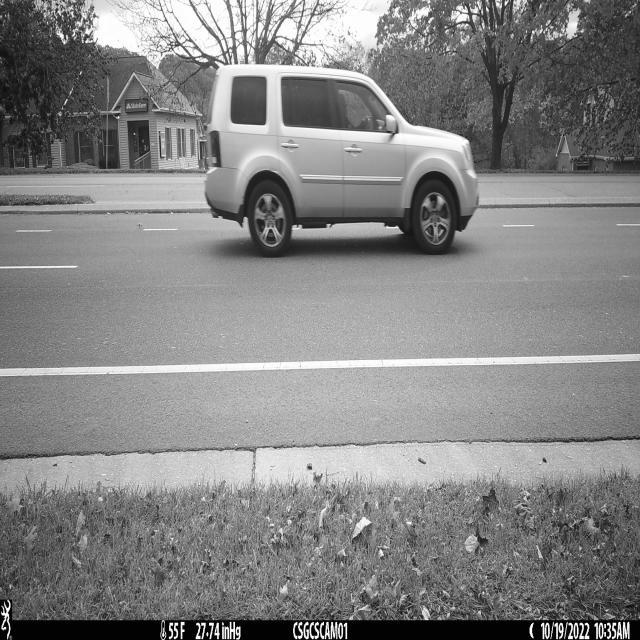SUV: (203, 64, 481, 259)
